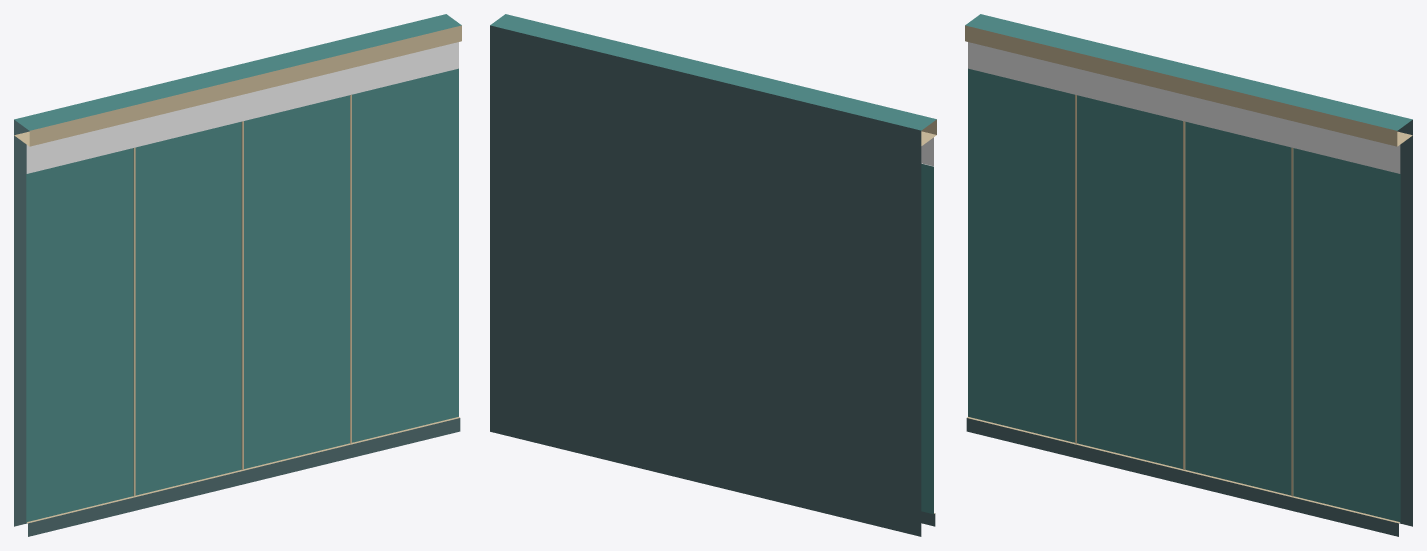
The model's file is KC32__AD_Int_Room_Wall_Plain_Coral.glb.
3 views of the same model, side by side, from view 1: azimuth 30°, elevation 25°; view 2: azimuth 150°, elevation 25°; view 3: azimuth 330°, elevation 25° (orthographic).
Parts seen in each view (by area): view 1: KC32_CORPS__AD_Int_Room_Wall_Plain_Coral, KC32_ACCENT__AD_Int_Room_Wall_Plain_Coral, KC32_BRONZE__AD_Int_Room_Wall_Plain_Coral; view 2: KC32_CORPS__AD_Int_Room_Wall_Plain_Coral; view 3: KC32_CORPS__AD_Int_Room_Wall_Plain_Coral, KC32_ACCENT__AD_Int_Room_Wall_Plain_Coral, KC32_BRONZE__AD_Int_Room_Wall_Plain_Coral.
Boxes of the visible parts, x1=… form: KC32_CORPS__AD_Int_Room_Wall_Plain_Coral: x1=14, y1=14, x2=461, y2=536; KC32_ACCENT__AD_Int_Room_Wall_Plain_Coral: x1=26, y1=42, x2=458, y2=173; KC32_BRONZE__AD_Int_Room_Wall_Plain_Coral: x1=14, y1=25, x2=461, y2=523; KC32_CORPS__AD_Int_Room_Wall_Plain_Coral: x1=490, y1=14, x2=936, y2=536; KC32_CORPS__AD_Int_Room_Wall_Plain_Coral: x1=965, y1=14, x2=1412, y2=536; KC32_ACCENT__AD_Int_Room_Wall_Plain_Coral: x1=968, y1=42, x2=1400, y2=173; KC32_BRONZE__AD_Int_Room_Wall_Plain_Coral: x1=965, y1=25, x2=1412, y2=523.
Size of the model in its own units: 4 by 3.6 by 0.25.
